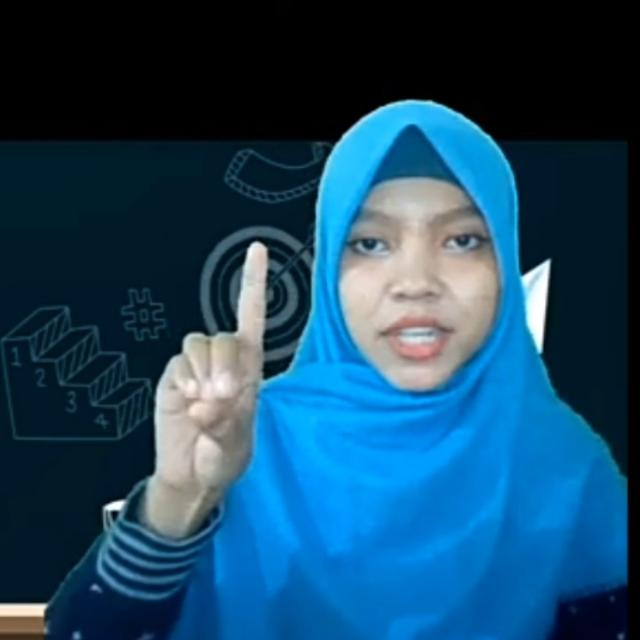D: (151, 243, 269, 497)
